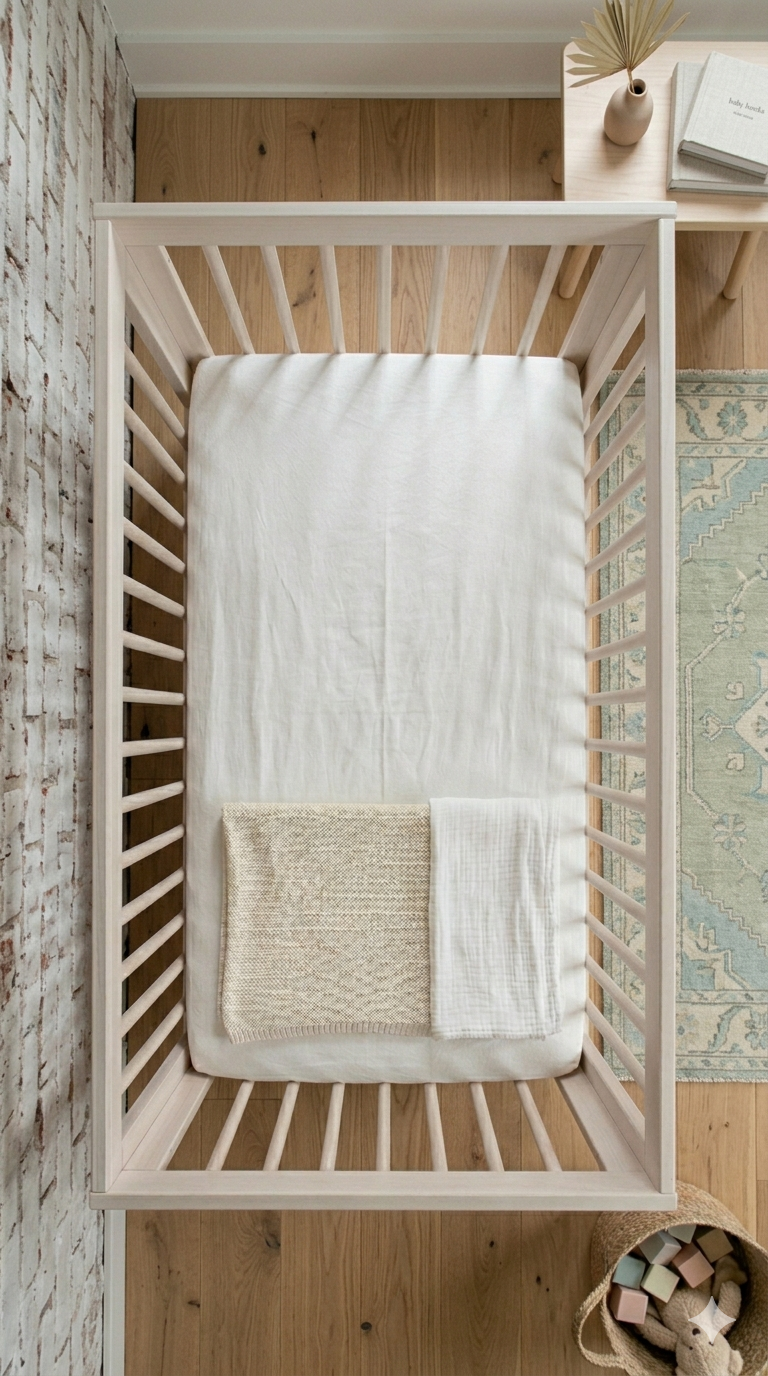crib: (167, 243, 603, 1170)
